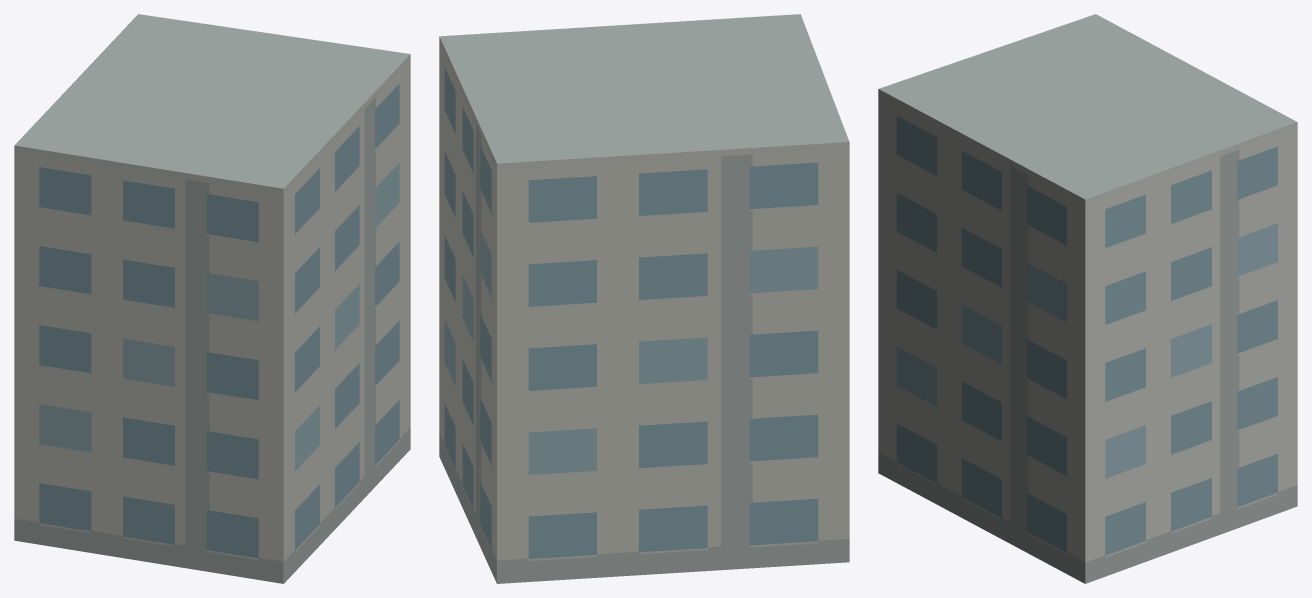
File: survey-upis-32859075.glb
3 renders of one model, left to right at view 1: azimuth 30°, elevation 25°; view 2: azimuth 150°, elevation 25°; view 3: azimuth 270°, elevation 25°, orthographic. The views are drawn at different scales.
Visible parts, largest first — view 1: survey-upis-32859075.tmp; view 2: survey-upis-32859075.tmp; view 3: survey-upis-32859075.tmp.
Part boxes in pixels (x1,y1,x2,y2): survey-upis-32859075.tmp: (14, 14, 410, 583); survey-upis-32859075.tmp: (439, 14, 849, 583); survey-upis-32859075.tmp: (878, 14, 1297, 583).
Size of the model in its own units: 16.1 by 15.54 by 15.37.
